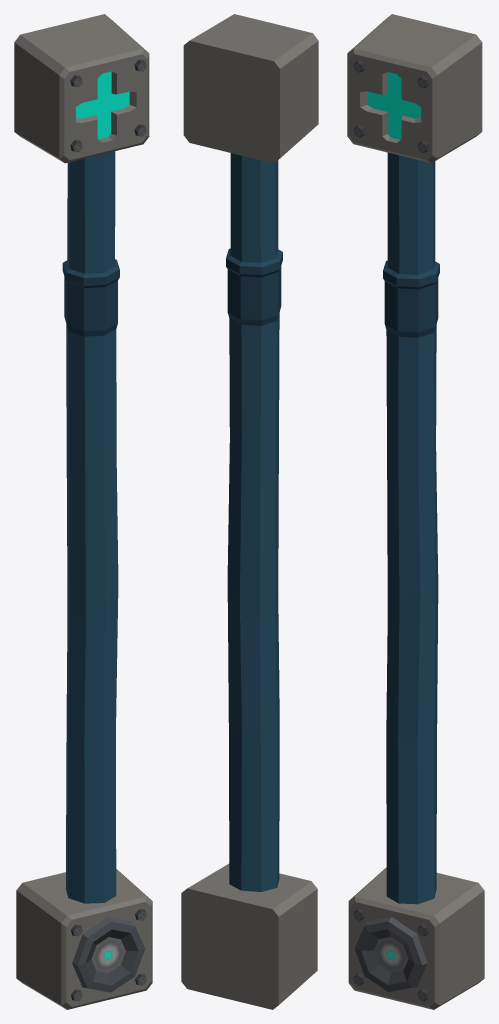
Rendered from SM_Prop_Greebles_21.fbx.
3 renders of one model, left to right at view 1: azimuth 30°, elevation 25°; view 2: azimuth 150°, elevation 25°; view 3: azimuth 330°, elevation 25°, orthographic.
Parts seen in each view (by area): view 1: SM_Prop_Greebles_21; view 2: SM_Prop_Greebles_21; view 3: SM_Prop_Greebles_21.
Part boxes in pixels (bbox=[...]): SM_Prop_Greebles_21: bbox=[14, 14, 152, 1009]; SM_Prop_Greebles_21: bbox=[181, 14, 318, 1009]; SM_Prop_Greebles_21: bbox=[347, 14, 484, 1009].
Size of the model in its own units: 14.94 by 137 by 12.51.
